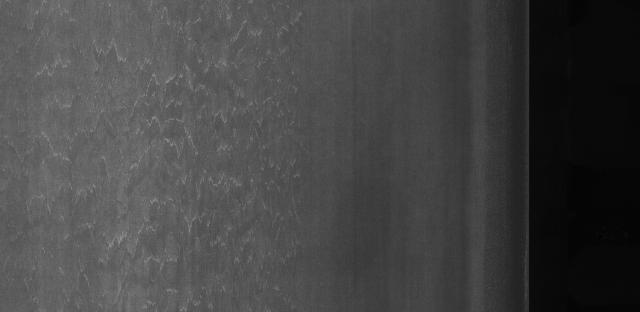silk_spot: (21, 164, 290, 297), (38, 86, 256, 183), (161, 13, 313, 98), (46, 29, 178, 89)
